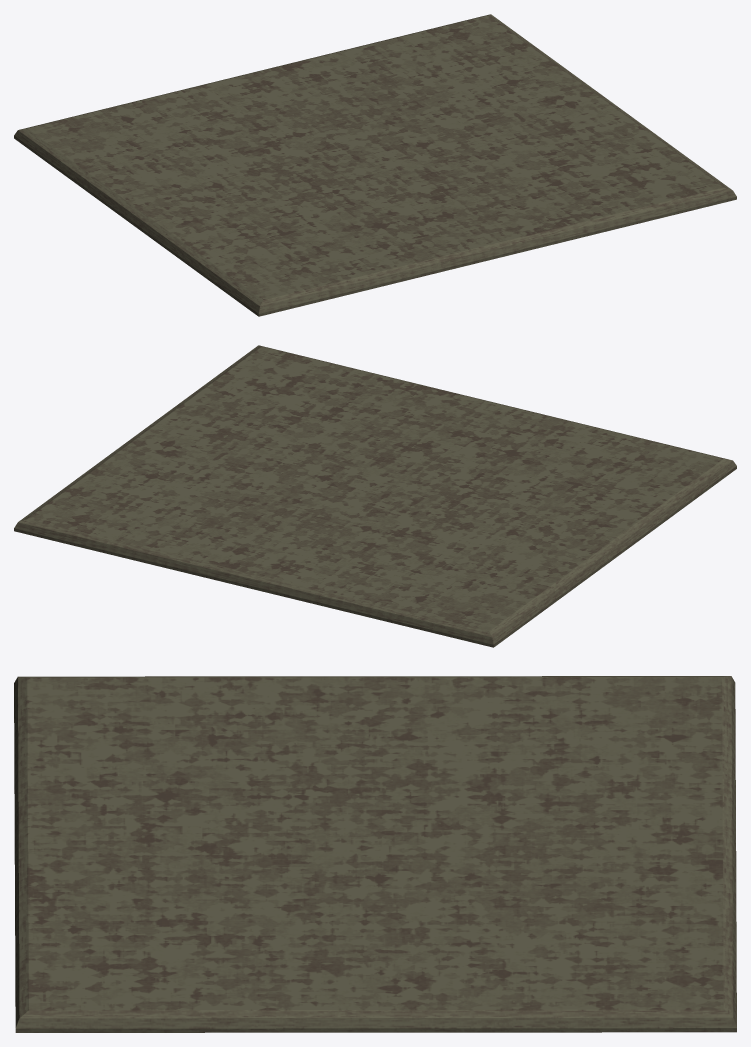
The model's file is Carpet.glb.
The picture shows the model from 3 angles, top to bottom: view 1: azimuth 30°, elevation 25°; view 2: azimuth 150°, elevation 25°; view 3: azimuth 270°, elevation 25°; orthographic projection. The views are drawn at different scales.
Visible parts, largest first — view 1: Carpet.001; view 2: Carpet.001; view 3: Carpet.001.
Boxes of the visible parts, box(x1,y1,x2,y2) form: Carpet.001: box(14, 14, 736, 316); Carpet.001: box(14, 345, 736, 647); Carpet.001: box(14, 676, 736, 1032).
Bounding box in the file's own units: 48.55 × 1.07 × 42.87.
1 material, 1 textured.
